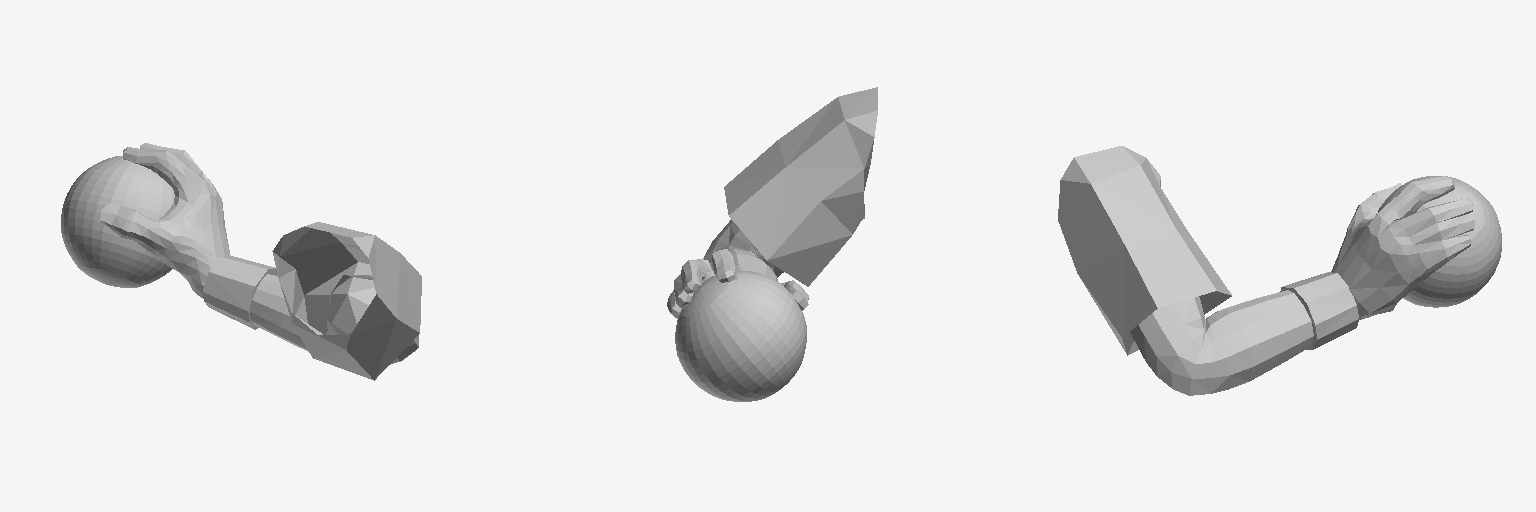
Rendered from bDerEntre.obj.
The picture shows the model from 3 angles: view 1: azimuth 30°, elevation 25°; view 2: azimuth 150°, elevation 25°; view 3: azimuth 270°, elevation 25°; orthographic projection.
Parts seen in each view (by area): view 1: Entrenador.002_trainer_body, Entrenador.002_trainer_ball; view 2: Entrenador.002_trainer_body, Entrenador.002_trainer_ball; view 3: Entrenador.002_trainer_body, Entrenador.002_trainer_ball.
Boxes of the visible parts, <box> form: Entrenador.002_trainer_body: <box>100,143,421,380</box>; Entrenador.002_trainer_ball: <box>61,156,174,287</box>; Entrenador.002_trainer_body: <box>667,87,877,318</box>; Entrenador.002_trainer_ball: <box>675,271,806,401</box>; Entrenador.002_trainer_body: <box>1058,146,1474,395</box>; Entrenador.002_trainer_ball: <box>1378,176,1501,307</box>.
Size of the model in its own units: 8.05 by 6.73 by 14.23.